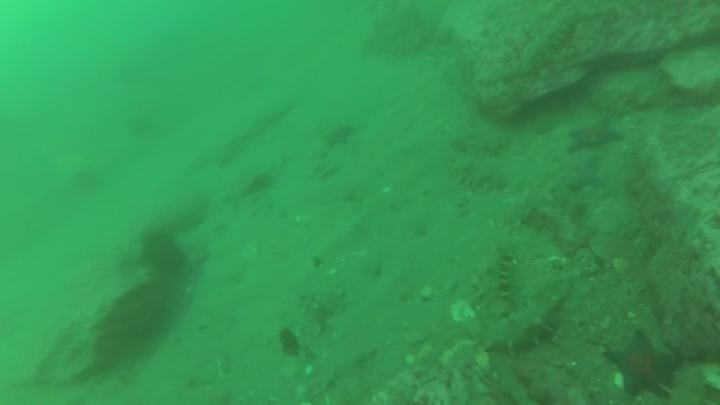echinus: (138, 228, 188, 279), (68, 164, 106, 196), (242, 169, 277, 199)
holothurian: (477, 291, 567, 355), (514, 13, 579, 76), (470, 244, 517, 321), (445, 153, 512, 195), (661, 359, 719, 404), (447, 129, 515, 160)
starfish: (603, 329, 682, 401), (566, 116, 625, 154), (553, 152, 605, 193), (319, 120, 358, 151)
